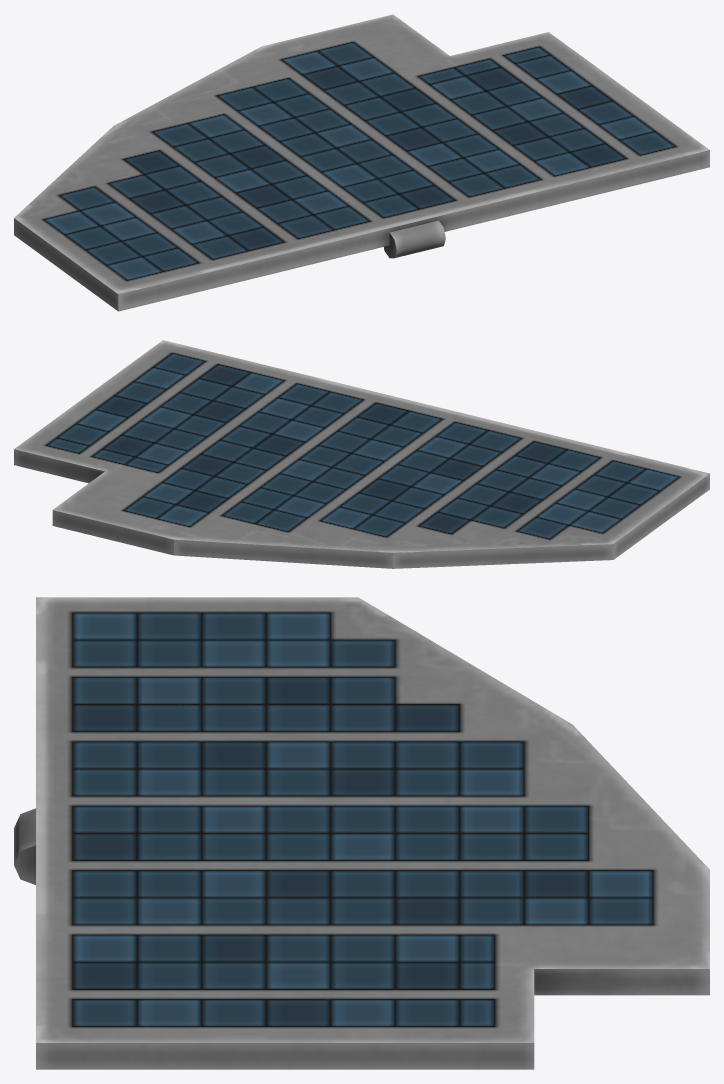
The model's file is 1mv_solar_srf_1.obj.
3 renders of one model, top to bottom at view 1: azimuth 30°, elevation 25°; view 2: azimuth 150°, elevation 25°; view 3: azimuth 270°, elevation 25°, orthographic. The views are drawn at different scales.
Parts seen in each view (by area): view 1: mesh1; view 2: mesh1; view 3: mesh1.
Part boxes in pixels (x1,y1,x2,y2): mesh1: (14, 14, 709, 311); mesh1: (14, 340, 709, 568); mesh1: (14, 597, 709, 1069).
Bounding box in the file's own units: 0.9 × 0.0438 × 0.5937.
1 material, 1 textured.
